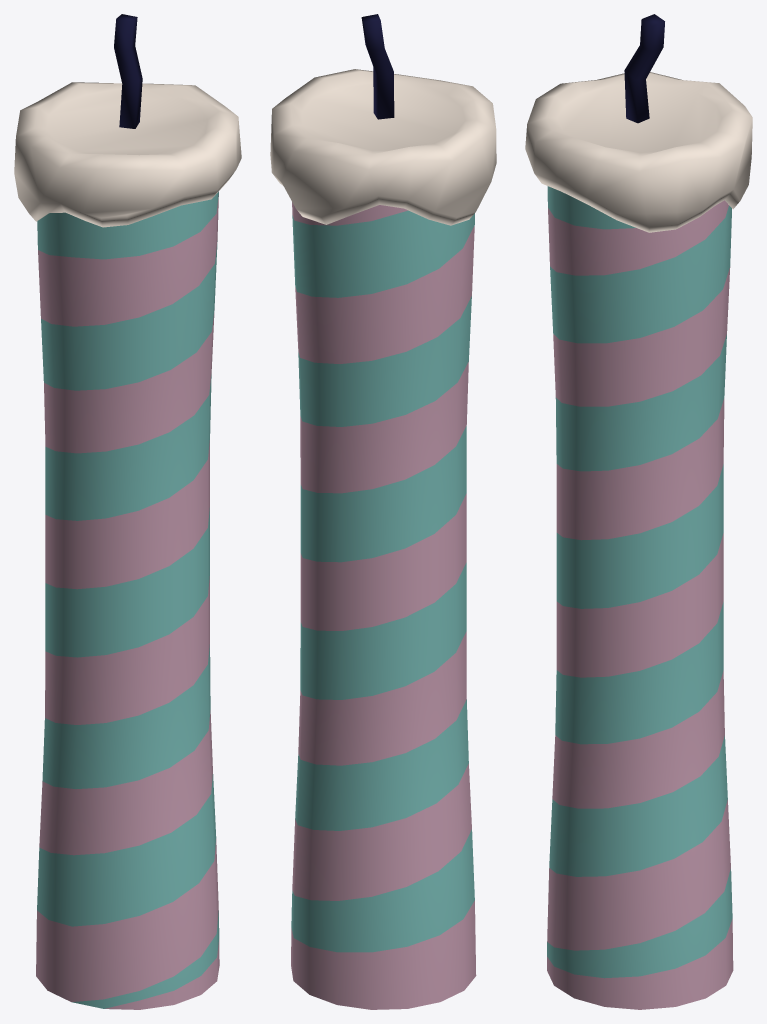
The model's file is RAK_NEROT.fbx.
3 views of the same model, side by side, from view 1: azimuth 30°, elevation 25°; view 2: azimuth 150°, elevation 25°; view 3: azimuth 270°, elevation 25° (orthographic).
Visible parts, largest first — view 1: Candle01; view 2: Candle01; view 3: Candle01.
Part boxes in pixels (box(x1,y1,x2,y2)): Candle01: box(14, 14, 241, 1009); Candle01: box(270, 14, 496, 1009); Candle01: box(525, 14, 752, 1009).
Bounding box in the file's own units: 82.2 × 378 × 81.75.
